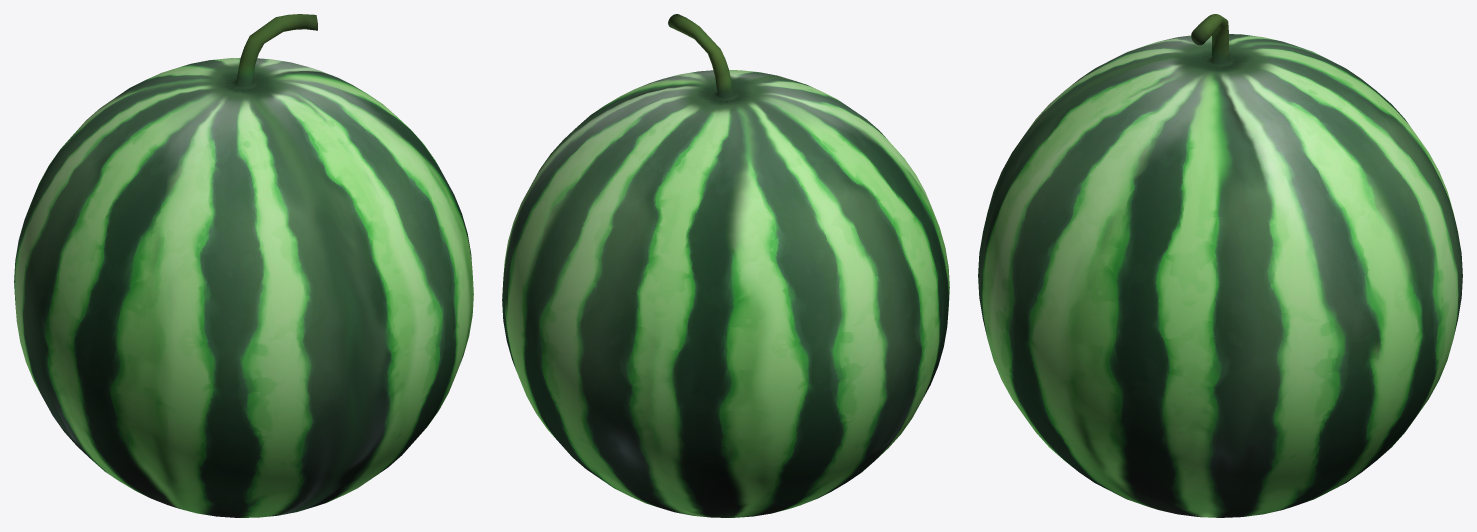
The model's file is Watermelon.fbx.
The picture shows the model from 3 angles, left to right: view 1: azimuth 30°, elevation 25°; view 2: azimuth 150°, elevation 25°; view 3: azimuth 270°, elevation 25°; orthographic projection. The views are drawn at different scales.
Visible parts, largest first — view 1: Basketball_Ball_Skin_Watermelon; view 2: Basketball_Ball_Skin_Watermelon; view 3: Basketball_Ball_Skin_Watermelon.
Part boxes in pixels (x1=…): Basketball_Ball_Skin_Watermelon: x1=14, y1=14, x2=473, y2=517; Basketball_Ball_Skin_Watermelon: x1=502, y1=14, x2=949, y2=517; Basketball_Ball_Skin_Watermelon: x1=978, y1=14, x2=1462, y2=517.
Bounding box in the file's own units: 0.2402 × 0.2722 × 0.2402.
Materials: 1 (1 with a texture image).
